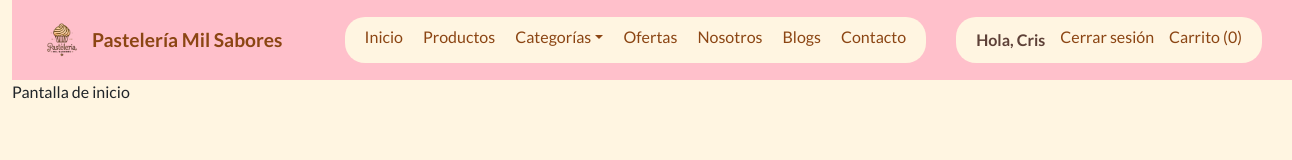
Menu › cierra la sesión y vuelve al inicio
The width and height of the screenshot is (1292, 160).
Click the button "Cerrar sesión" at (1107, 40), box [1060,25,1154,55]
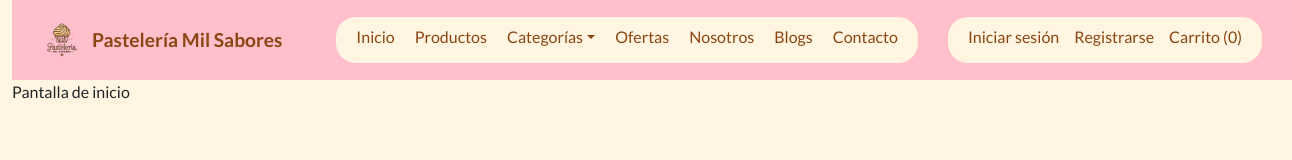
Expected: the text "Pantalla de inicio" is shown, [12,82,130,101]
Now the link "Iniciar sesión" is shown, box [968,25,1059,55]
